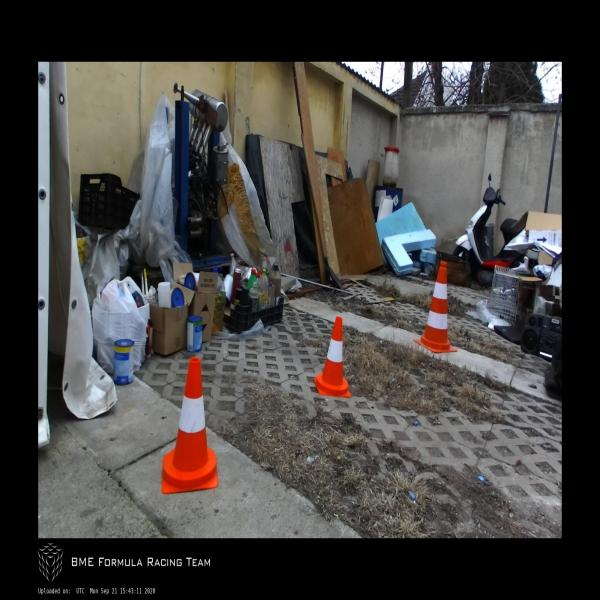large_orange_cone: (414, 261, 457, 353)
orange_cone: (162, 358, 218, 492), (313, 317, 351, 398)
